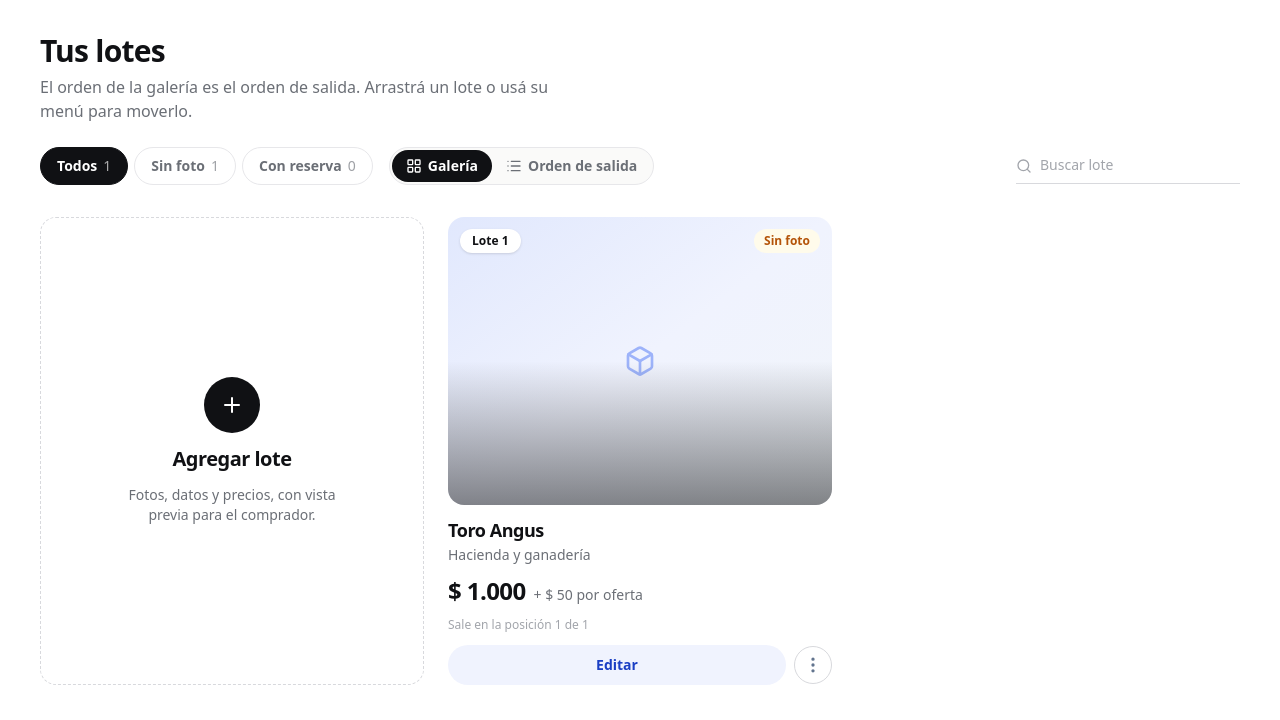
LotesManagementPage › editar un lote abre el panel con sus valores
This screenshot has width=1280, height=720.
(page scrolled)
Click the button with aria-label "Editar lote 1: Toro Angus" at (640,360), box [448,216,832,504]
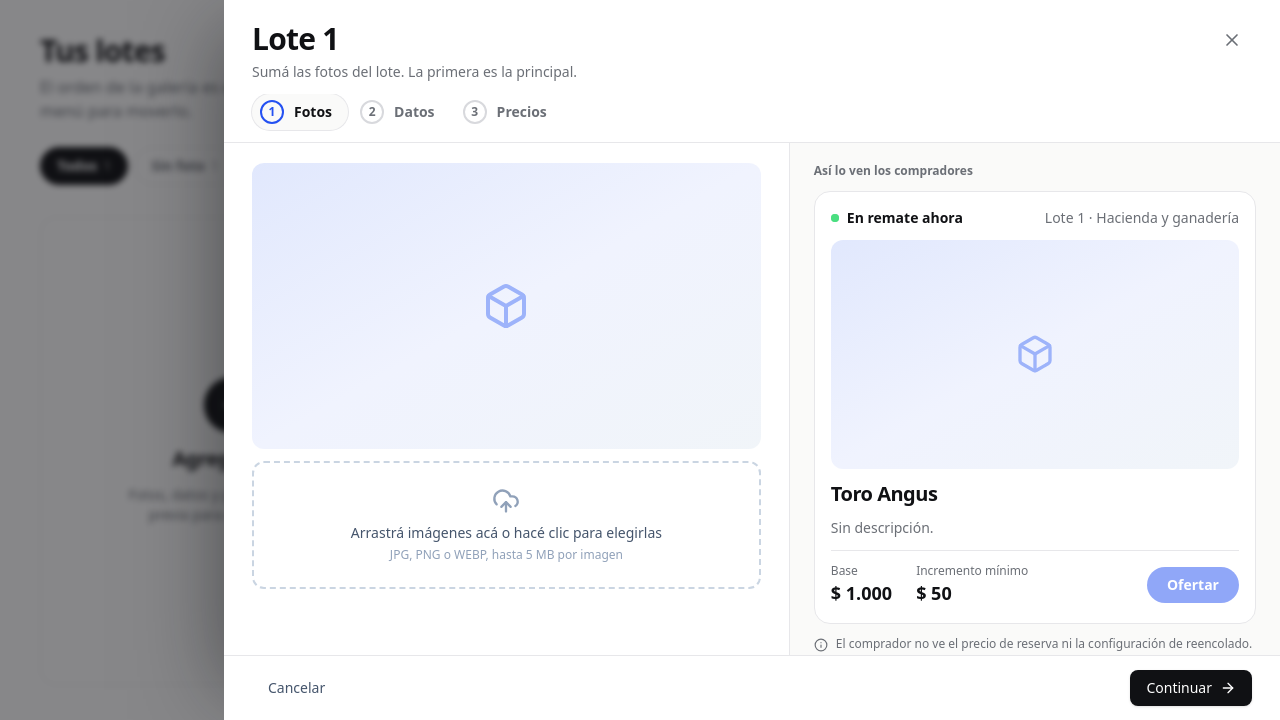
Click the button "Continuar" at (1191,688), box [1130,670,1252,706]
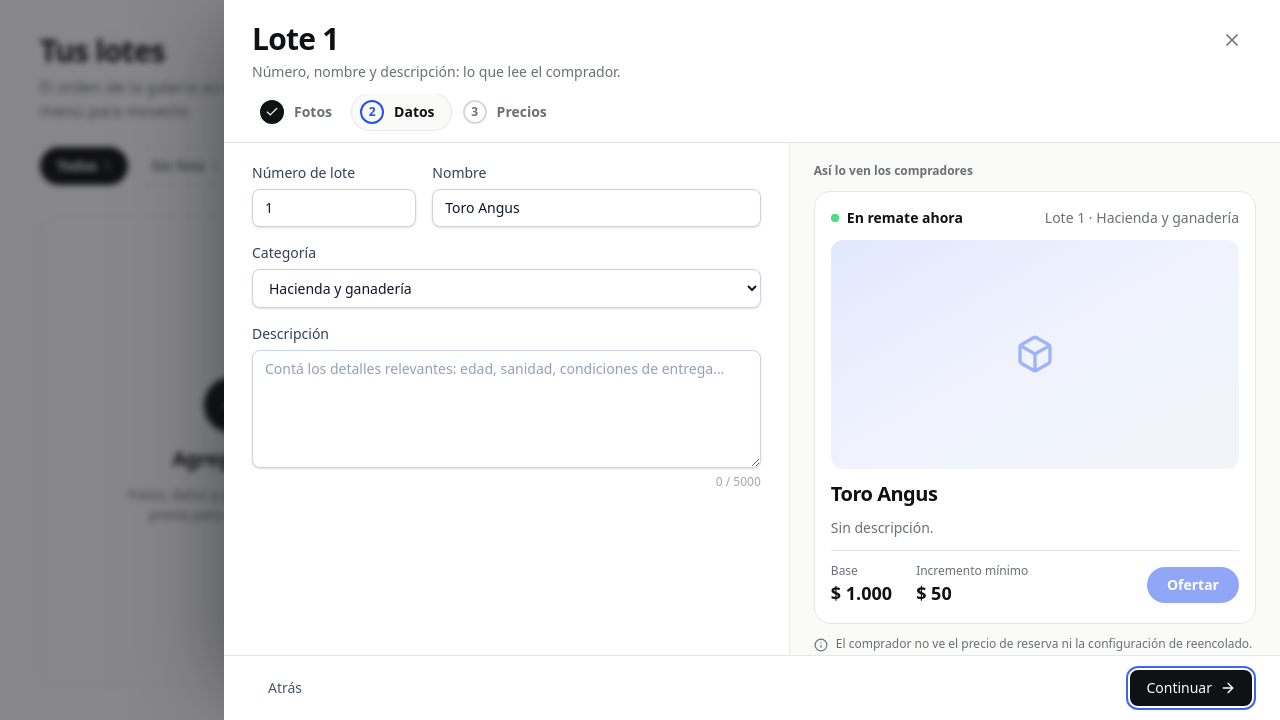
Expected: the field labelled "Nombre" holds "Toro Angus", [432,188,761,226]
